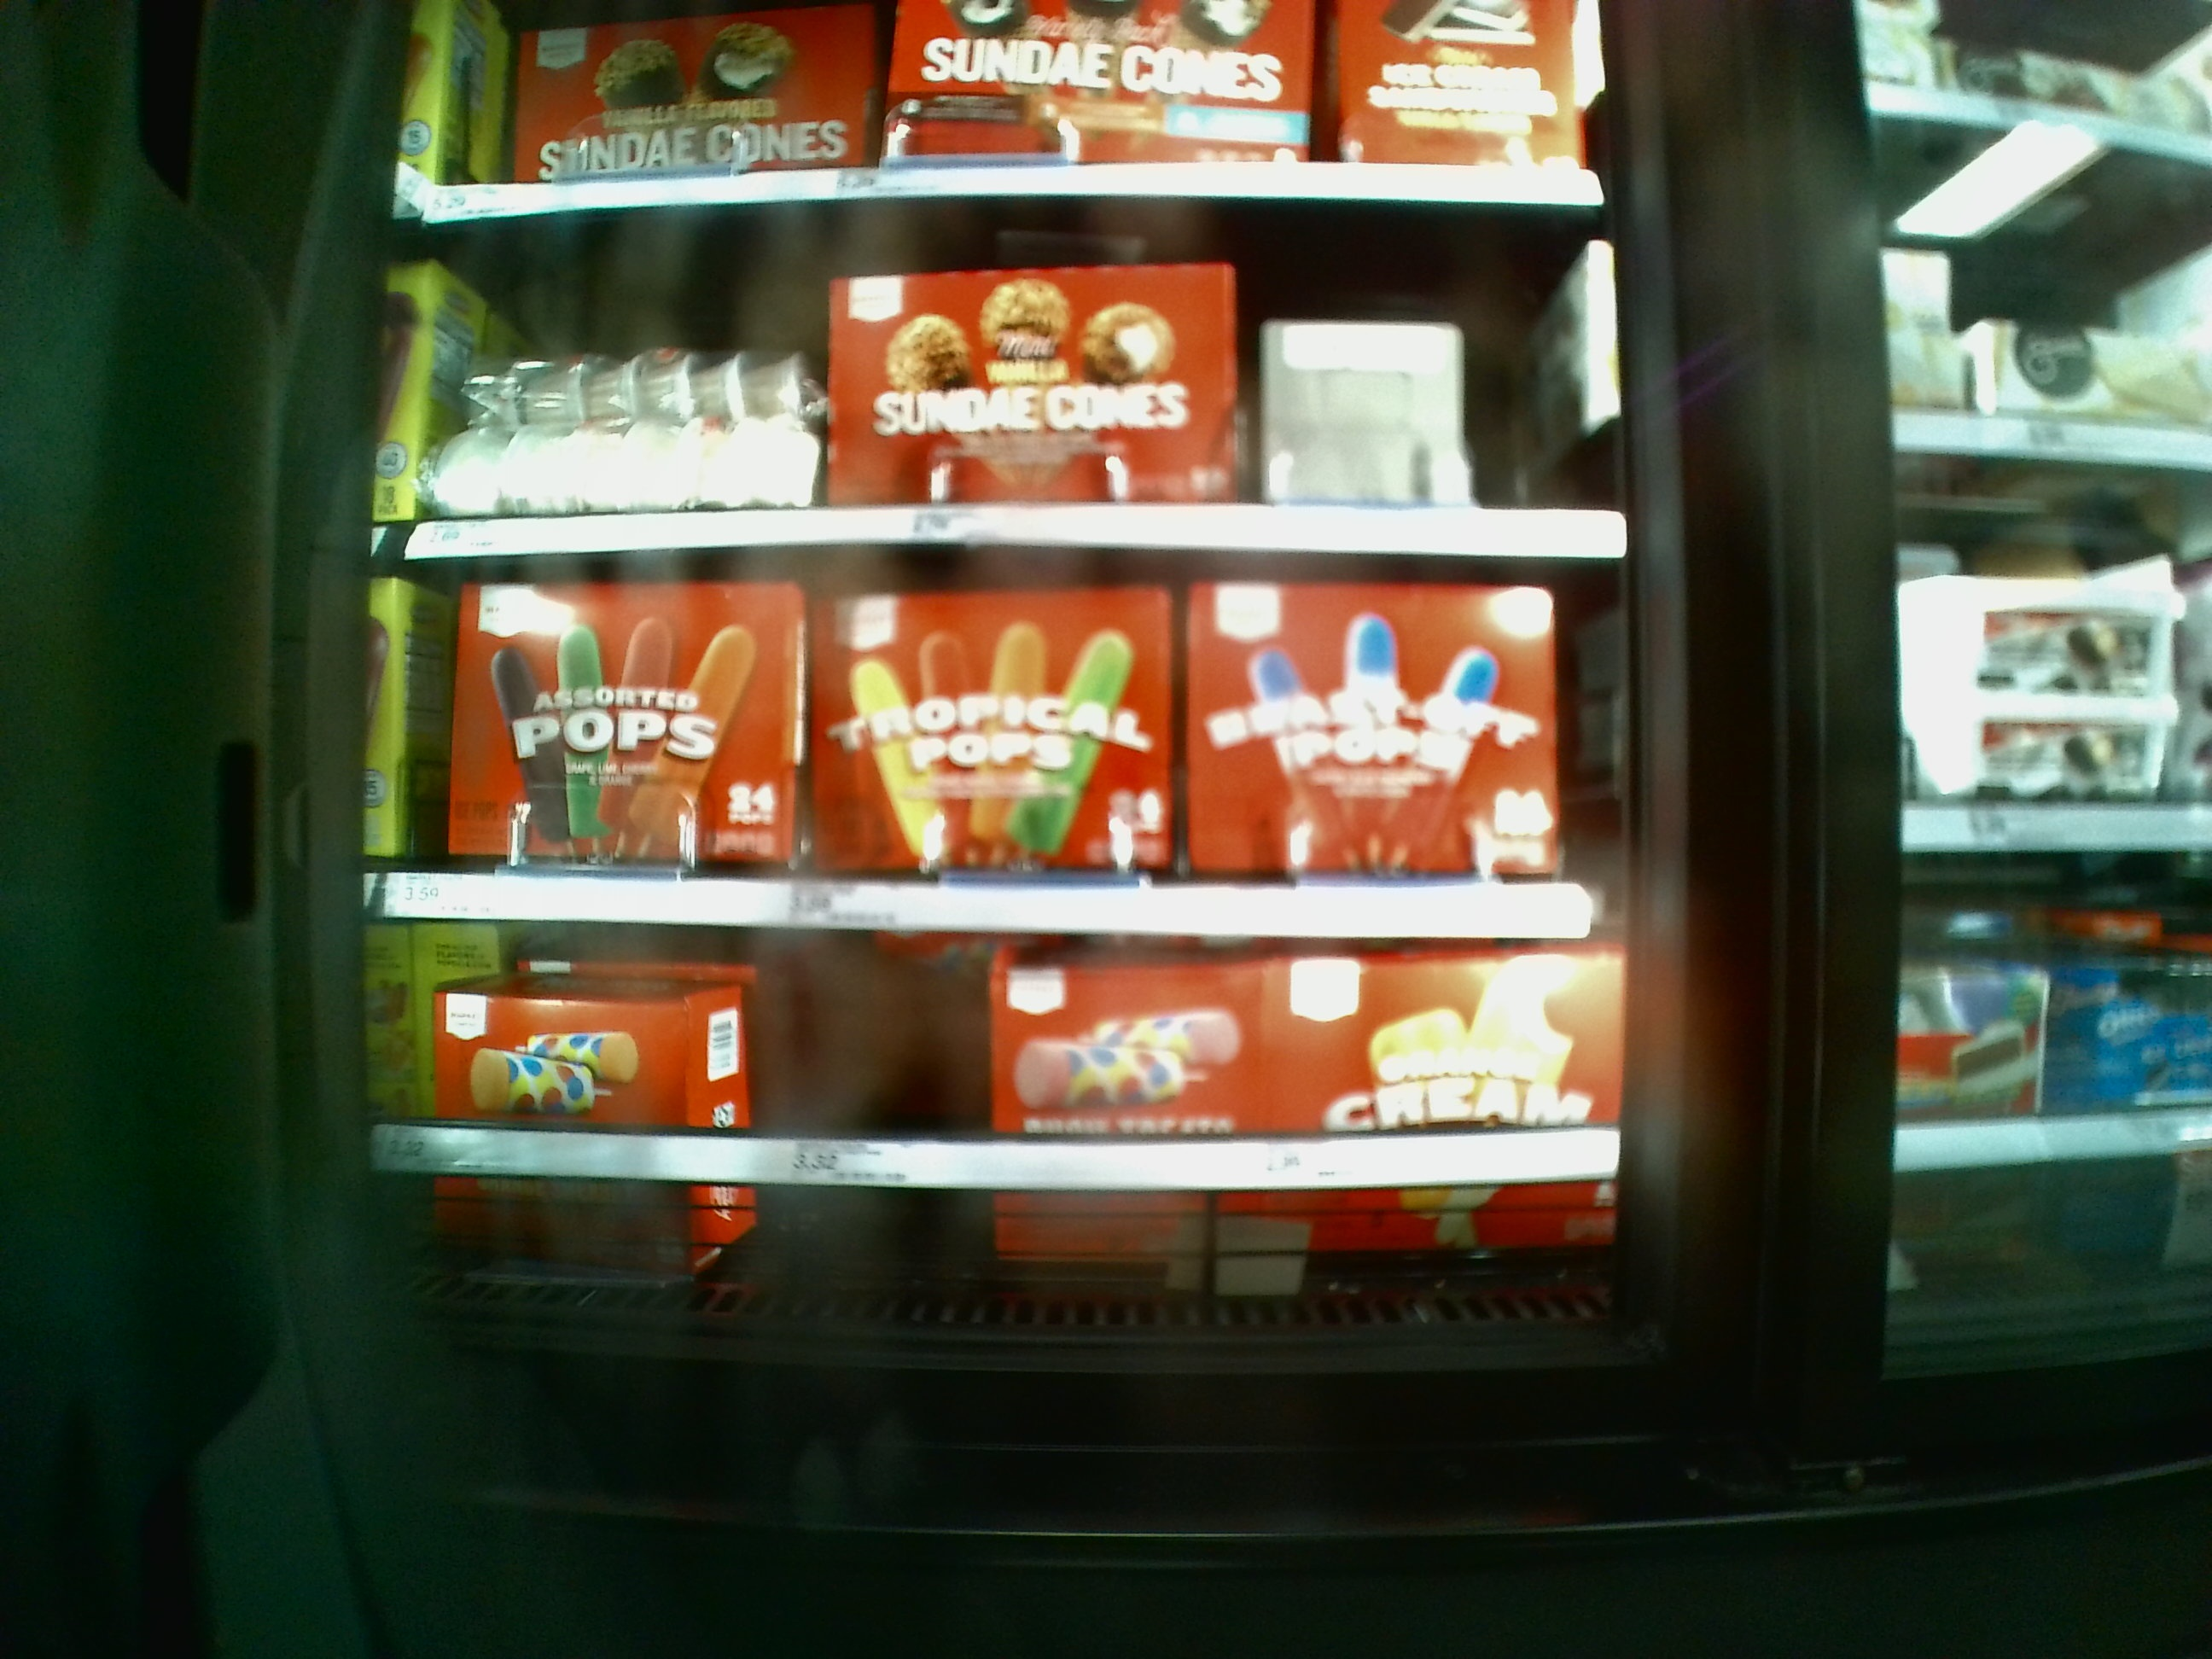shelf: (425, 911, 1611, 1328), (413, 558, 1608, 939), (413, 204, 1615, 559)
